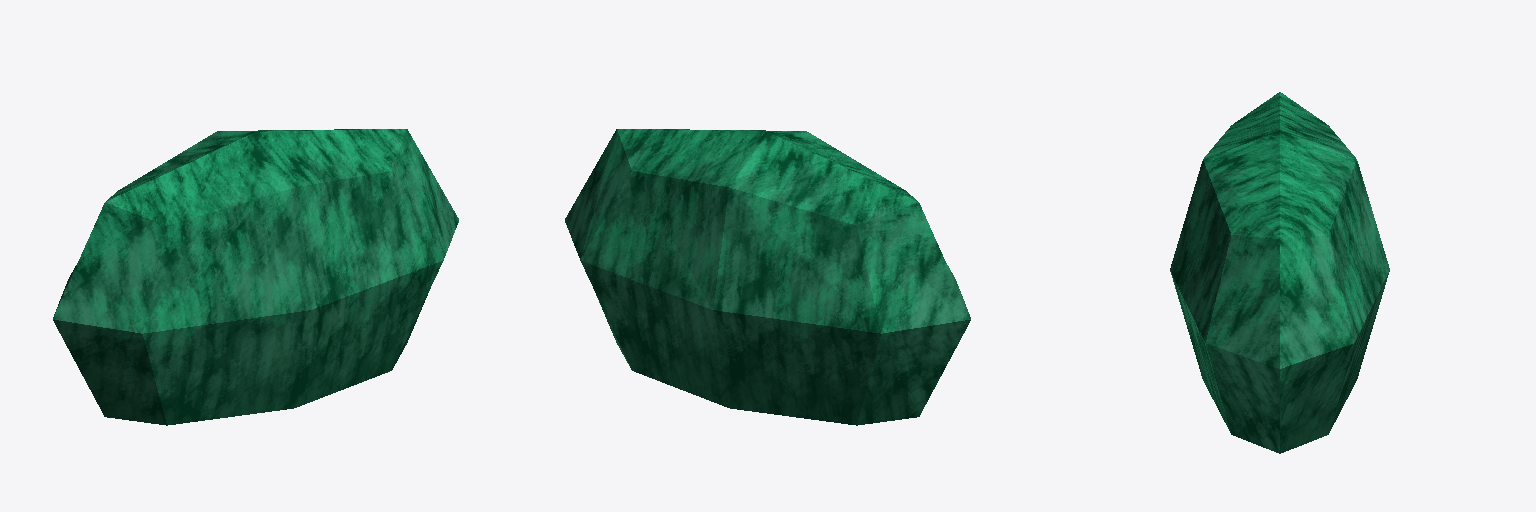
3 renders of one model, left to right at view 1: azimuth 30°, elevation 25°; view 2: azimuth 150°, elevation 25°; view 3: azimuth 270°, elevation 25°, orthographic.
Parts seen in each view (by area): view 1: pCube1; view 2: pCube1; view 3: pCube1.
Part boxes in pixels (x1,y1,x2,y2): pCube1: (53, 129, 458, 425); pCube1: (565, 129, 970, 425); pCube1: (1170, 92, 1389, 453).
Size of the model in its own units: 7.71 by 4.5 by 3.61.
1 materials, 1 textured.